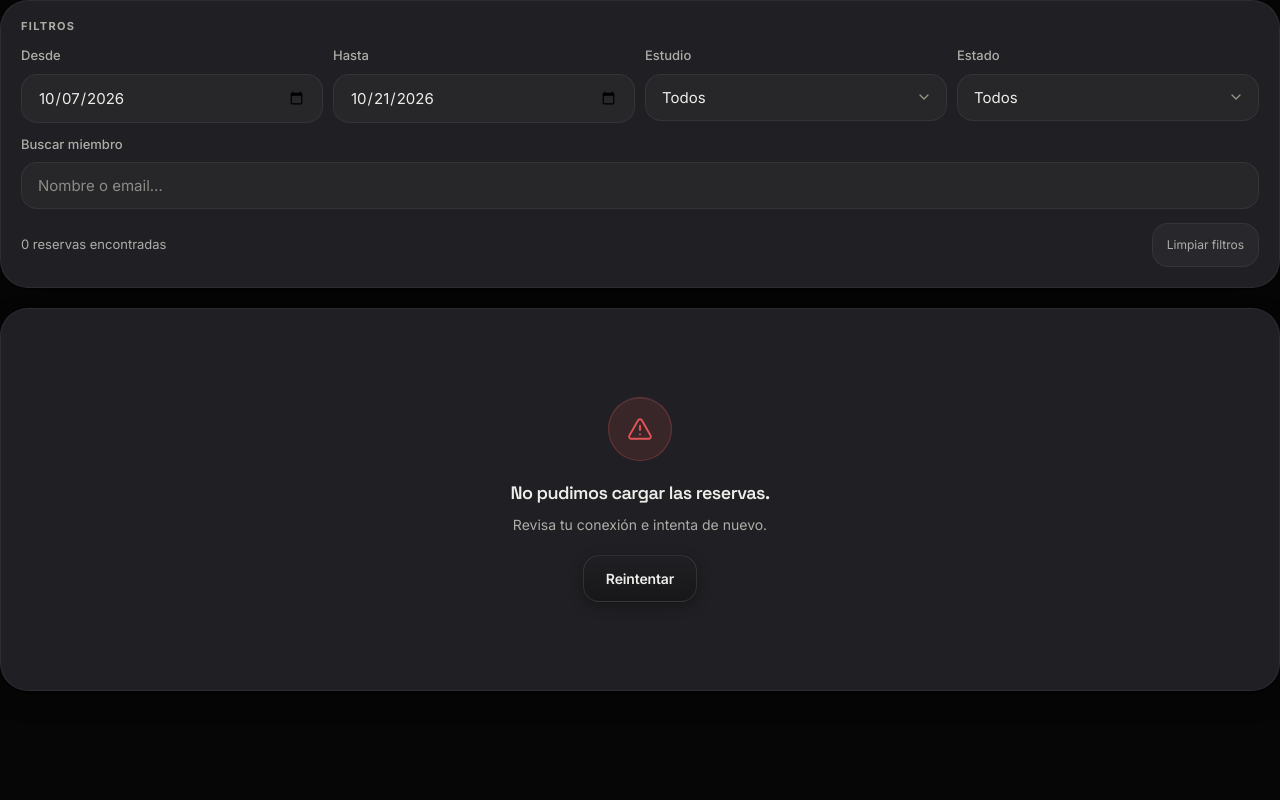
Test: ReservasVistaLista (PKG-02A) › error de reservas → "No pudimos cargar las reservas." + Reintentar; NO el vacío
This screenshot has width=1280, height=800.
Expected: the text "No pudimos cargar las reservas." is shown, [510,481,770,504]
Expected: the text "No hay reservas que coincidan con los filtros." is not shown
Click the button "Reintentar".
click(640, 578)  # box [583,555,697,602]
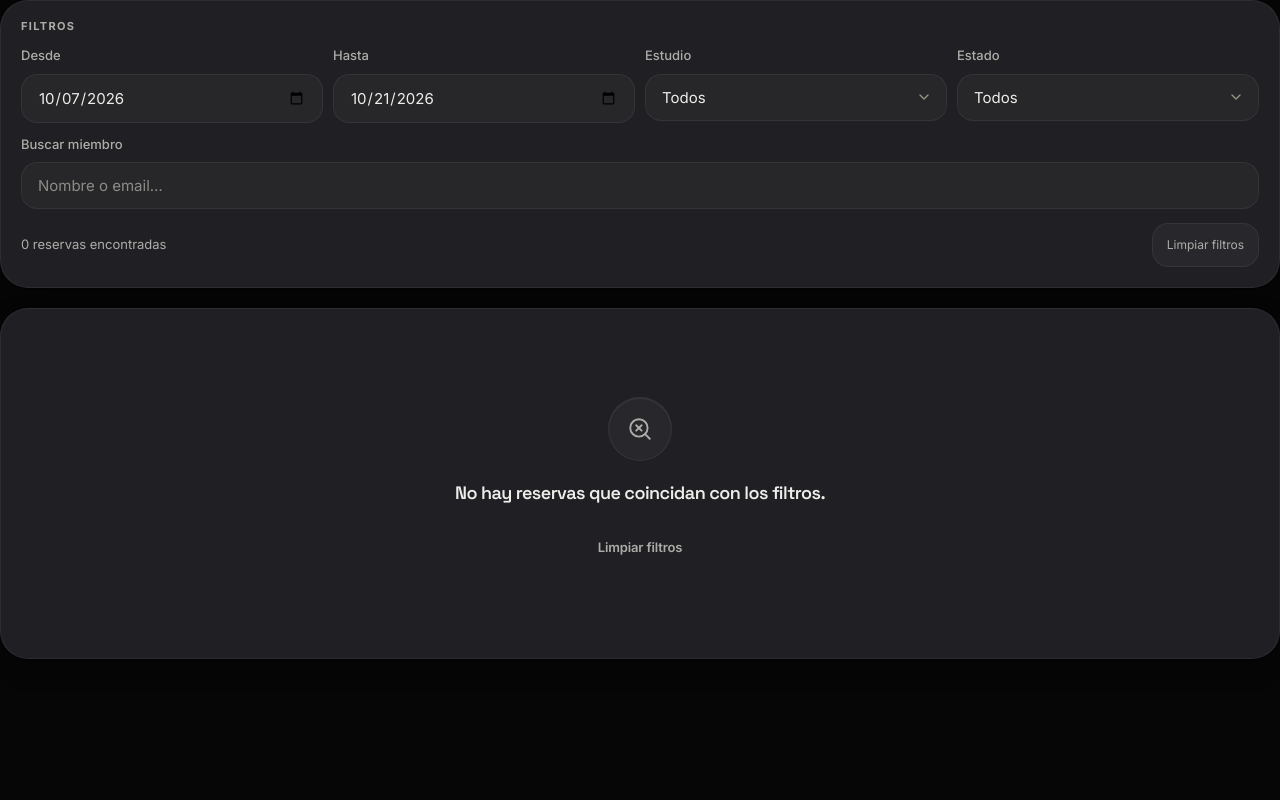
Expected: the text "No hay reservas que coincidan con los filtros." is shown, [455,481,825,504]
